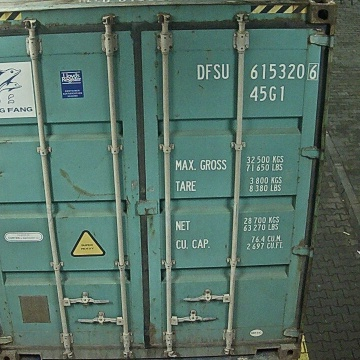serial_id: (196, 63, 317, 80)
